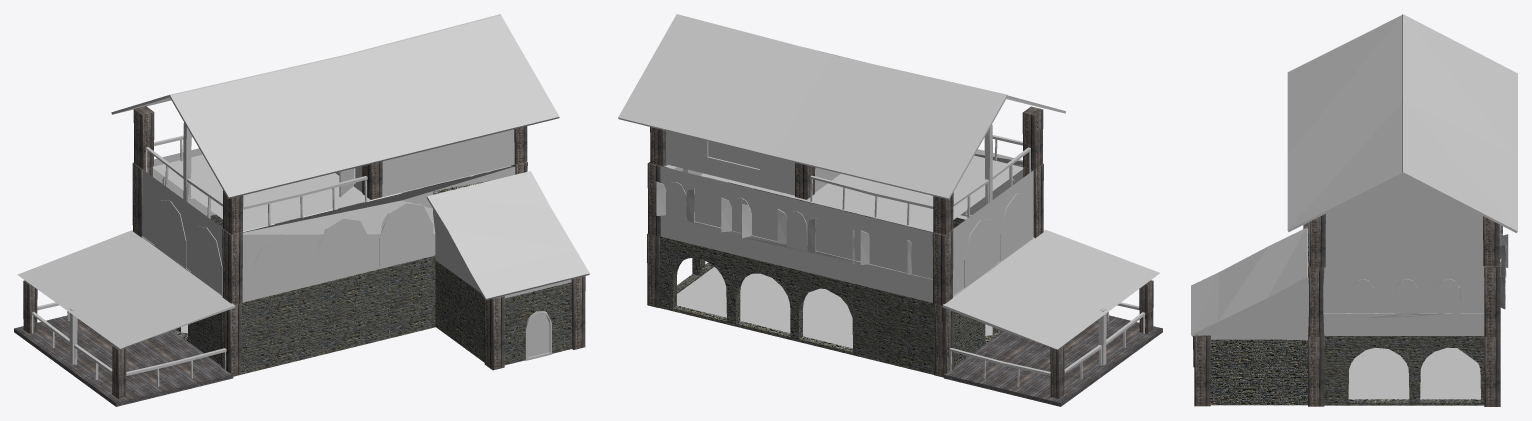
The model's file is tavern_main_LOD1.dae.
3 renders of one model, left to right at view 1: azimuth 30°, elevation 25°; view 2: azimuth 150°, elevation 25°; view 3: azimuth 270°, elevation 25°, orthographic. The views are drawn at different scales.
Visible parts, largest first — view 1: Default_Layer; view 2: Default_Layer; view 3: Default_Layer.
Part boxes in pixels (box(x1,y1,x2,y2)): Default_Layer: box(14, 14, 589, 406); Default_Layer: box(618, 14, 1162, 406); Default_Layer: box(1191, 14, 1517, 406).
Bounding box in the file's own units: 33.91 × 18.75 × 22.5.
